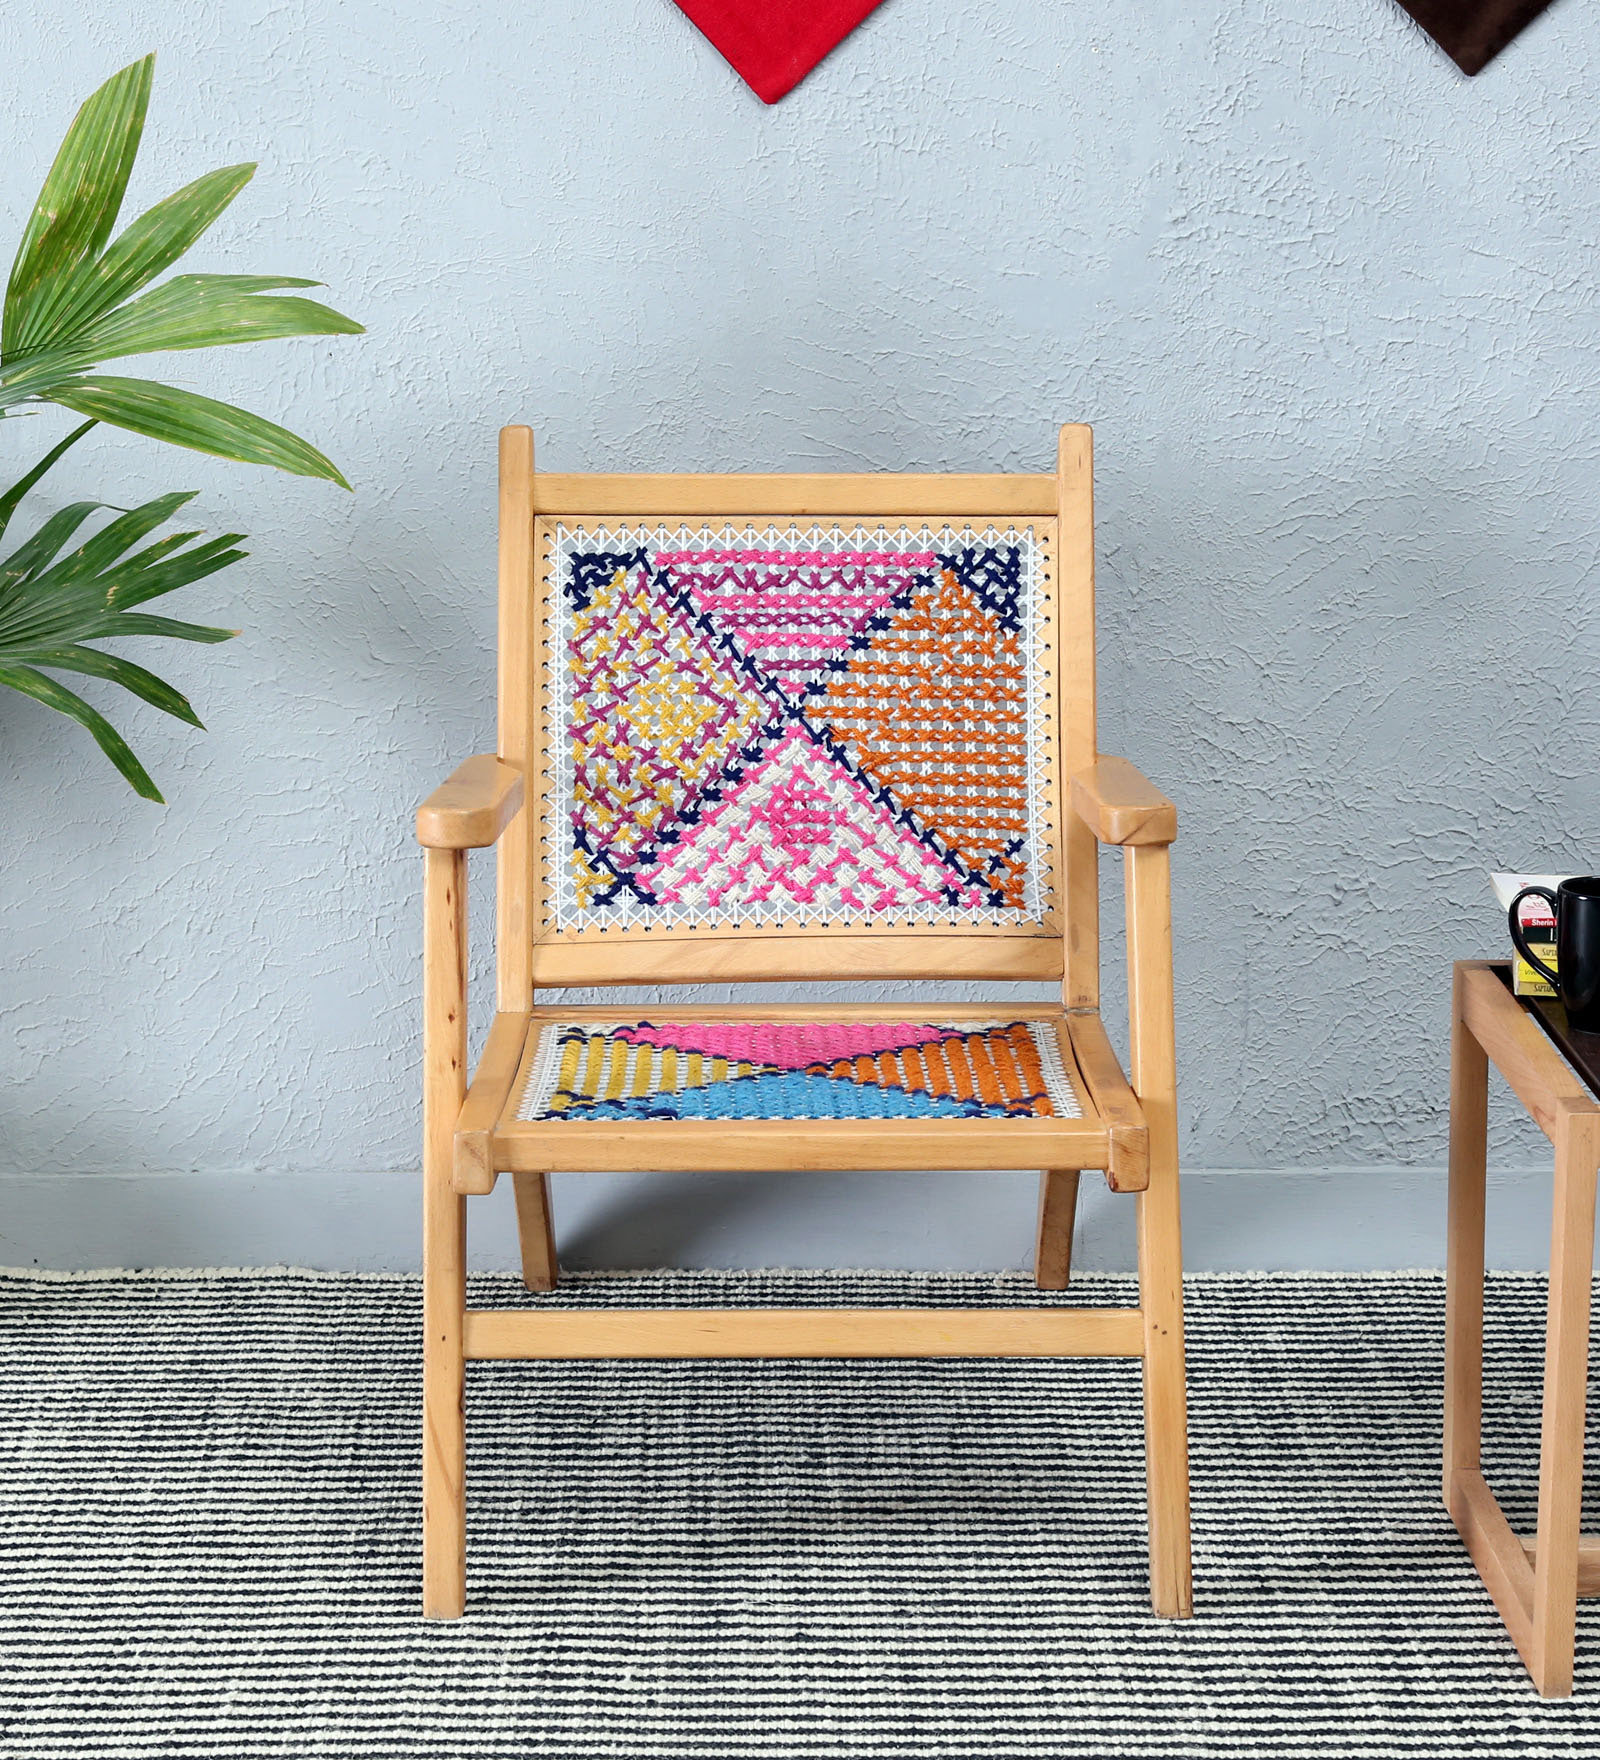Cara Arm Chair in in Multi- Color Finish by Bohemiana: (411, 399, 1235, 1650)
